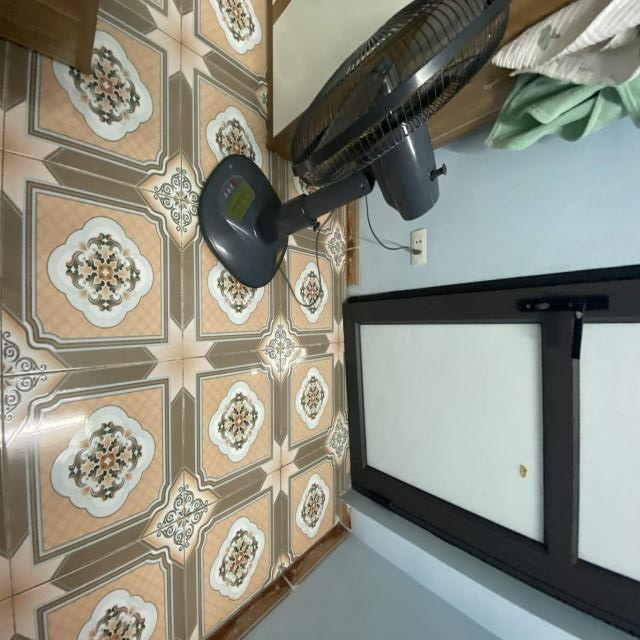outlet: (411, 228, 427, 266)
